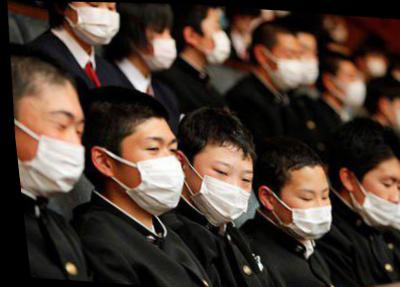OK: (10, 91, 91, 195), (117, 126, 186, 212), (190, 151, 257, 228), (276, 178, 333, 238), (65, 2, 125, 46), (142, 18, 181, 71), (268, 42, 307, 88), (198, 17, 234, 64), (288, 37, 322, 85), (336, 69, 368, 107), (386, 96, 400, 132)
WRONG: (354, 161, 400, 228)
